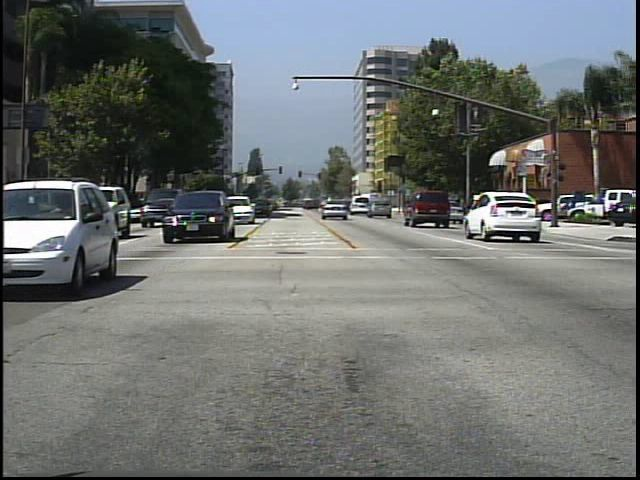person: (438, 192, 457, 225), (475, 189, 493, 219)
